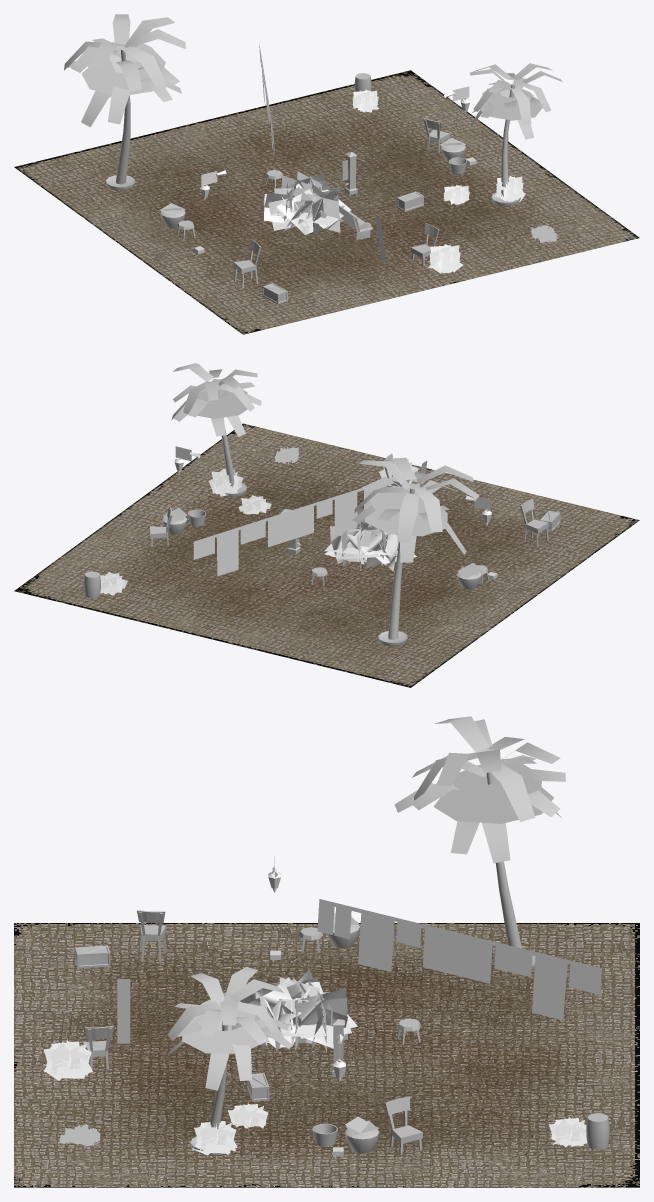
The model's file is propsonly_7.gltf.
The picture shows the model from 3 angles, top to bottom: view 1: azimuth 30°, elevation 25°; view 2: azimuth 150°, elevation 25°; view 3: azimuth 270°, elevation 25°; orthographic projection. The views are drawn at different scales.
Parts seen in each view (by area): view 1: ground.007, prop_tree3.003, prop_bush_jungle_04_small.003, prop_tree1.004, prop_building_bush_05.012, prop_building_bush_05.015, prop_chair1.012, prop_waterpump.003, prop_building_bush_05.014, prop_bench1.003, prop_chair1.010, prop_chair1.011 (+1 smaller); view 2: ground.007, prop_tree3.003, file_clothline_colony_no_terrain_hight.002, prop_tree1.004, prop_bush_jungle_04_small.003, prop_building_bush_05.015, prop_chair1.012, prop_flowerpot.008, prop_building_bush_05.014, prop_building_bush_05.013; view 3: ground.007, prop_tree3.003, file_clothline_colony_no_terrain_hight.002, prop_tree1.004, prop_bush_jungle_04_small.003, prop_building_bush_05.012, prop_building_bush_05.015, prop_chair1.010, prop_chair1.012, prop_flowerpot.009, prop_building_bush_05.014, prop_broom.003 (+4 smaller).
Part boxes in pixels (x1,y1,x2,y2): ground.007: [14, 70, 639, 334]; prop_tree3.003: [64, 14, 185, 184]; prop_bush_jungle_04_small.003: [262, 171, 351, 234]; prop_tree1.004: [470, 63, 562, 196]; prop_building_bush_05.012: [427, 244, 463, 273]; prop_building_bush_05.015: [495, 175, 525, 201]; prop_chair1.012: [233, 239, 261, 288]; prop_waterpump.003: [342, 152, 357, 194]; prop_building_bush_05.014: [352, 89, 379, 112]; prop_bench1.003: [339, 205, 372, 239]; prop_chair1.010: [423, 117, 449, 152]; prop_chair1.011: [411, 223, 439, 266]; ground.007: [14, 423, 639, 687]; prop_tree3.003: [352, 457, 479, 639]; file_clothline_colony_no_terrain_hight.002: [193, 486, 385, 576]; prop_tree1.004: [171, 363, 261, 487]; prop_bush_jungle_04_small.003: [324, 508, 416, 570]; prop_building_bush_05.015: [208, 468, 243, 496]; prop_chair1.012: [520, 498, 548, 547]; prop_flowerpot.008: [456, 562, 481, 589]; prop_building_bush_05.014: [100, 572, 127, 595]; prop_building_bush_05.013: [238, 495, 271, 514]; ground.007: [14, 923, 639, 1187]; prop_tree3.003: [394, 716, 565, 948]; file_clothline_colony_no_terrain_hight.002: [317, 899, 601, 1020]; prop_tree1.004: [167, 966, 292, 1128]; prop_bush_jungle_04_small.003: [240, 969, 357, 1051]; prop_building_bush_05.012: [43, 1039, 92, 1080]; prop_building_bush_05.015: [192, 1121, 237, 1155]; prop_chair1.010: [385, 1096, 422, 1154]; prop_chair1.012: [137, 910, 166, 962]; prop_flowerpot.009: [345, 1116, 379, 1152]; prop_building_bush_05.014: [548, 1115, 587, 1146]; prop_broom.003: [117, 978, 130, 1043].
Size of what is drawn, in the model's own units: 3.34 by 1.44 by 3.3.
